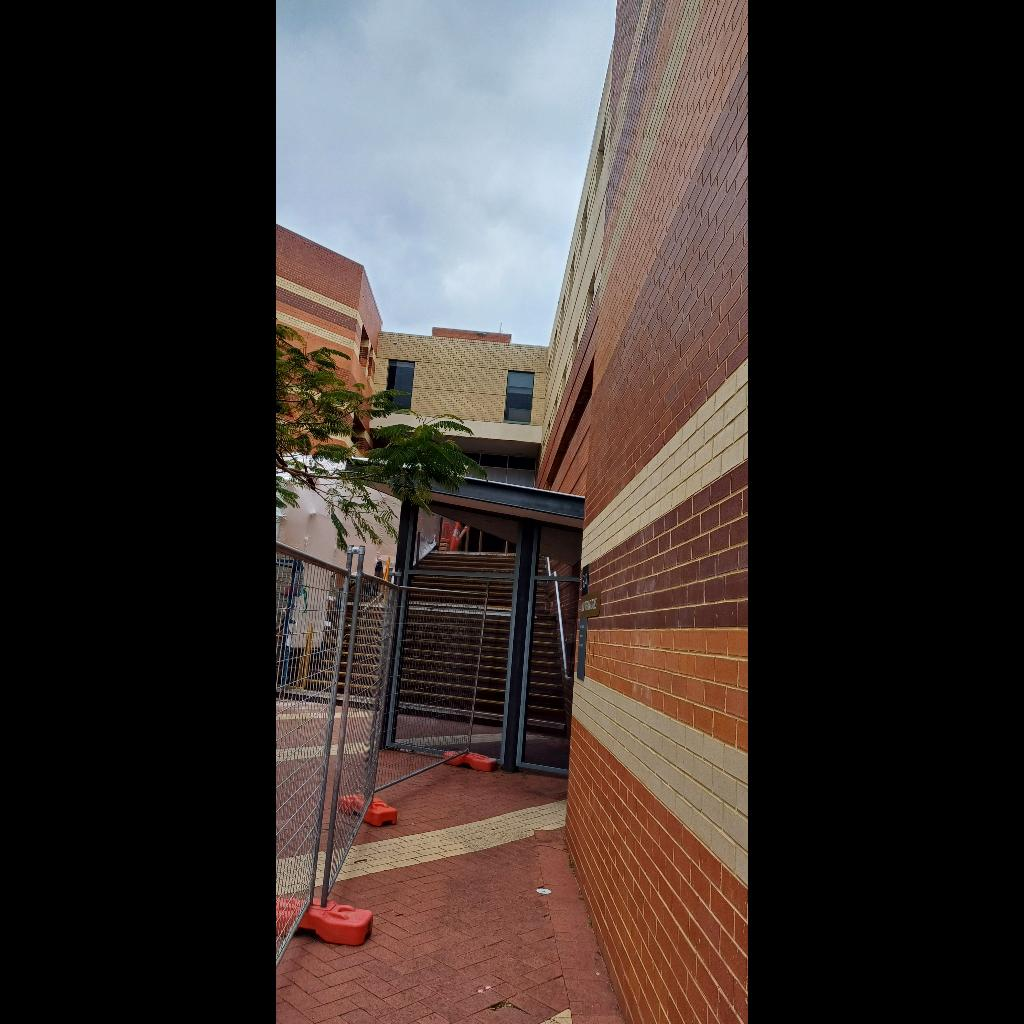BuildingCodes: (580, 569, 588, 593)
